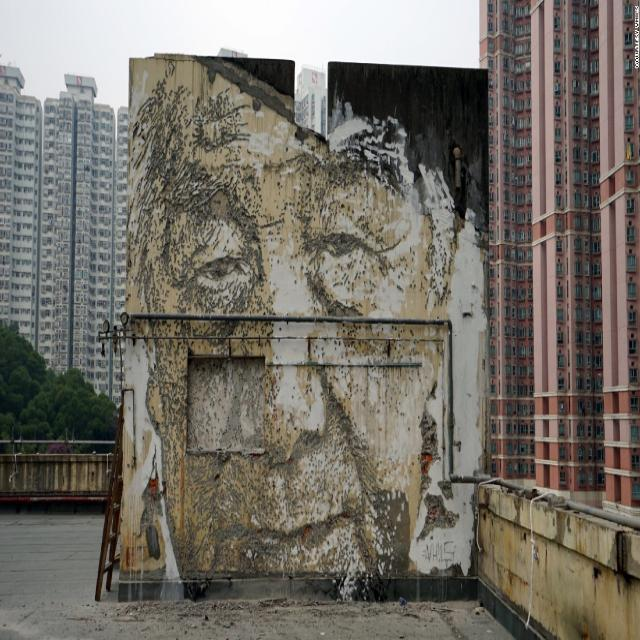-: (131, 54, 485, 578)
